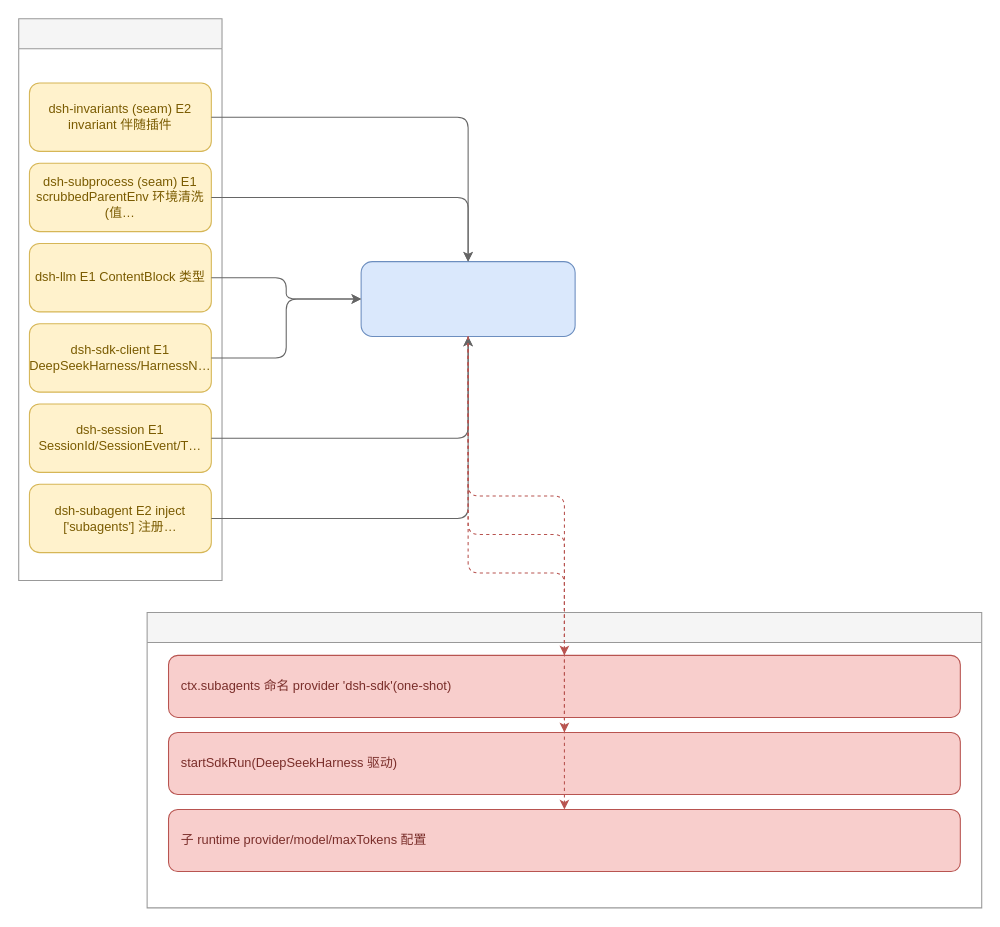
Some shapes in this 1000 by 927 pixel diagram are drawn without their labels. Here are the shapes that lost their labels. From the top down, the box of each, then its label:
(18, 18, 222, 580): 上游依赖 upstream (E1/E2/E3)
(360, 261, 575, 337): dsh-subagent-dsh-sdk @deepseek-ai/dsh-subagent-dsh-sdk
(146, 612, 982, 908): 提供服务 provides（关键项）
